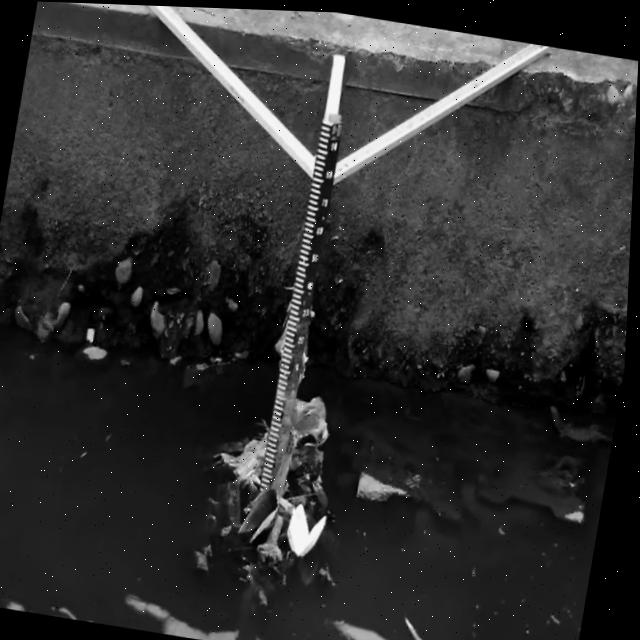water-meter: (245, 113, 350, 549)
